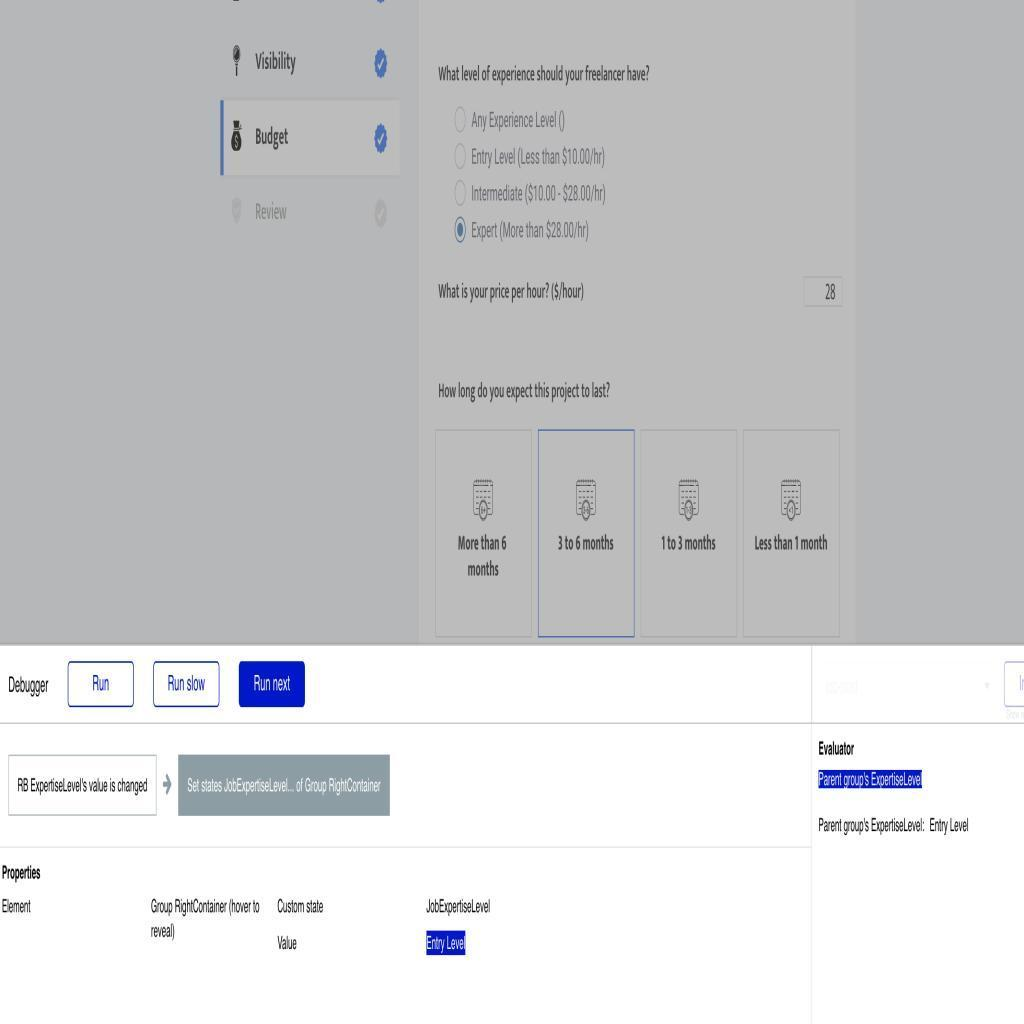button: (180, 755, 391, 816), (240, 661, 307, 711), (67, 661, 137, 708), (154, 662, 221, 710)
checkbox: (374, 49, 390, 79), (374, 123, 389, 153), (375, 199, 389, 227)
icon: (229, 44, 246, 81), (231, 117, 246, 155), (232, 197, 247, 225)
input: (8, 755, 155, 815)
radio: (454, 180, 468, 208), (455, 216, 468, 245), (455, 143, 468, 169), (456, 107, 468, 133)
